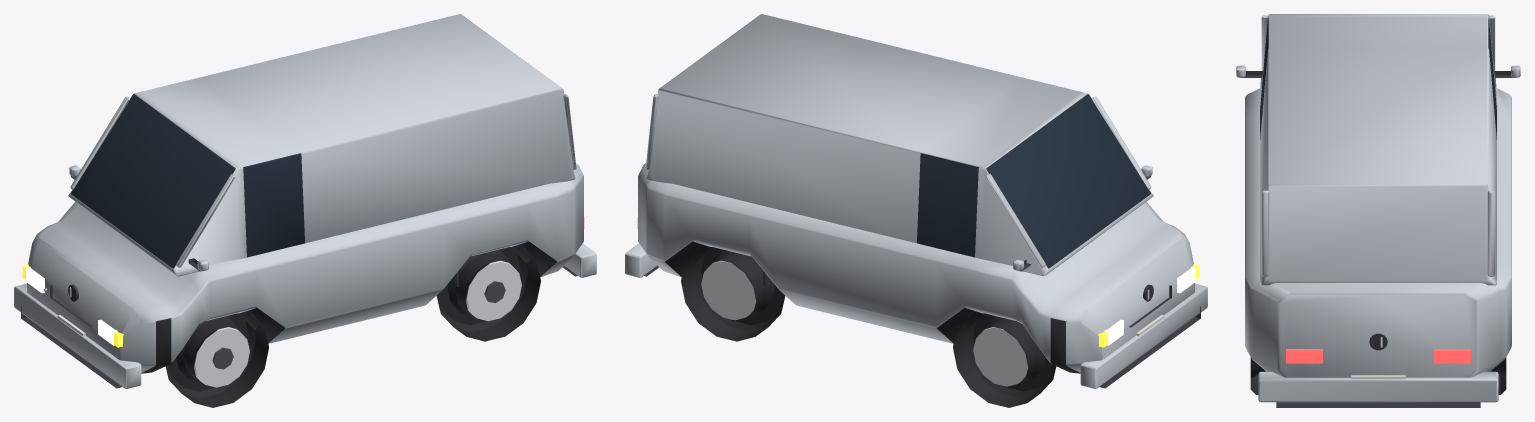
File: mv_minivan.glb
3 views of the same model, side by side, from view 1: azimuth 30°, elevation 25°; view 2: azimuth 150°, elevation 25°; view 3: azimuth 270°, elevation 25° (orthographic). The views are drawn at different scales.
Bounding box in the file's own units: 1.9 × 0.8762 × 0.9248.
